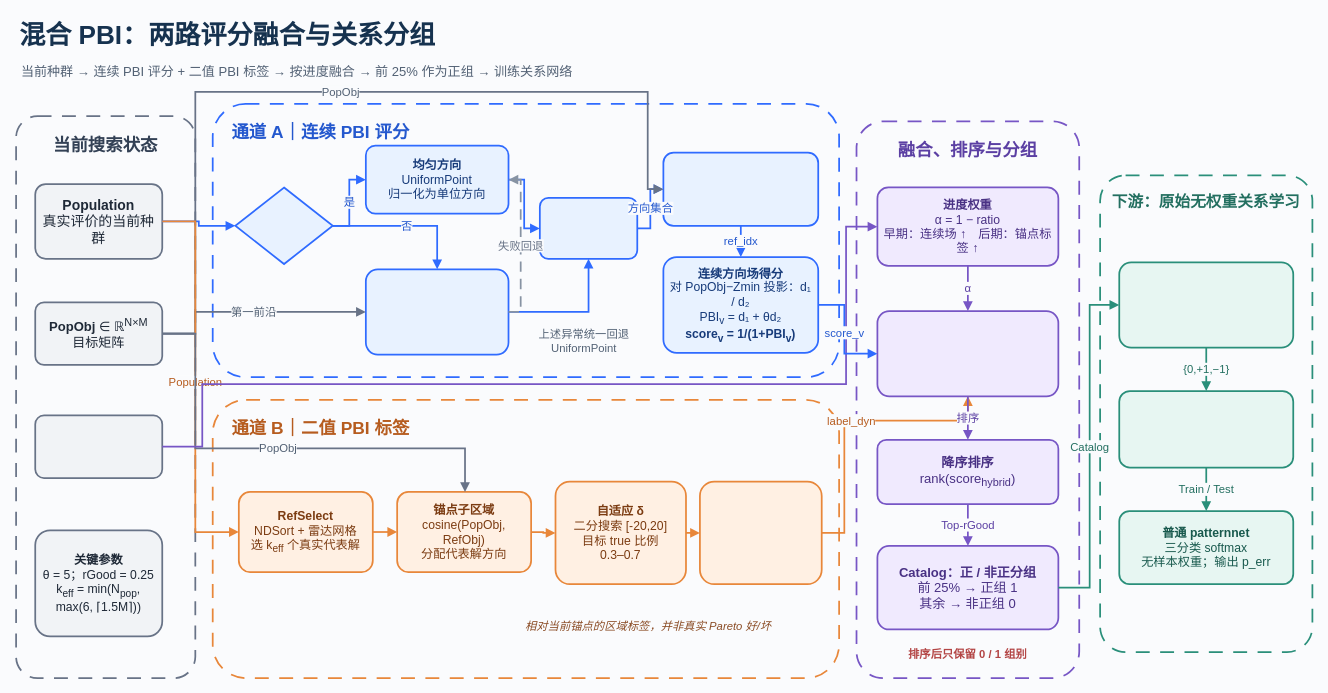
The diagram is 1328 pixels wide and 693 high, and some of its shapes have lost their labels. The centre of each missing label's shape, as x and y in pixels:
"DataProcess 按标签分层 75% 训练 / 25% 留出" goes at point (1206, 429).
"GetRelationPairs 同组：0 正→非正：+1 反向：−1" goes at point (1206, 304).
"M ≤ 3 或 N < 50？" goes at point (283, 225).
"ratio = FE / maxFE 进化进度 ∈ [0,1]" goes at point (98, 446).
"方向关联 cosine(PopObj, V) 确定 ref_idx" goes at point (740, 188).
"方向场 V N_ref 个方向" goes at point (588, 228).
"混合得分 score hybrid = α·score v + (1−α)·label dyn" goes at point (967, 353).
"自适应方向 第一前沿 → 归一化 K-means 中心" goes at point (437, 311).
"锚点阈值标签 g = d₁ + δd₂ ĝ = g / ‖Ref−Zmin‖ ĝ ≤ 1 → label dyn = 1 否则为 0" goes at point (760, 532).
